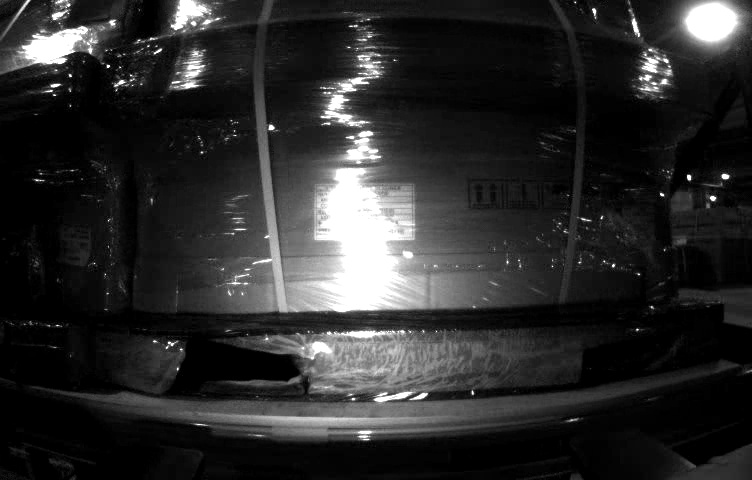True Barcode: (53, 225, 92, 267)
